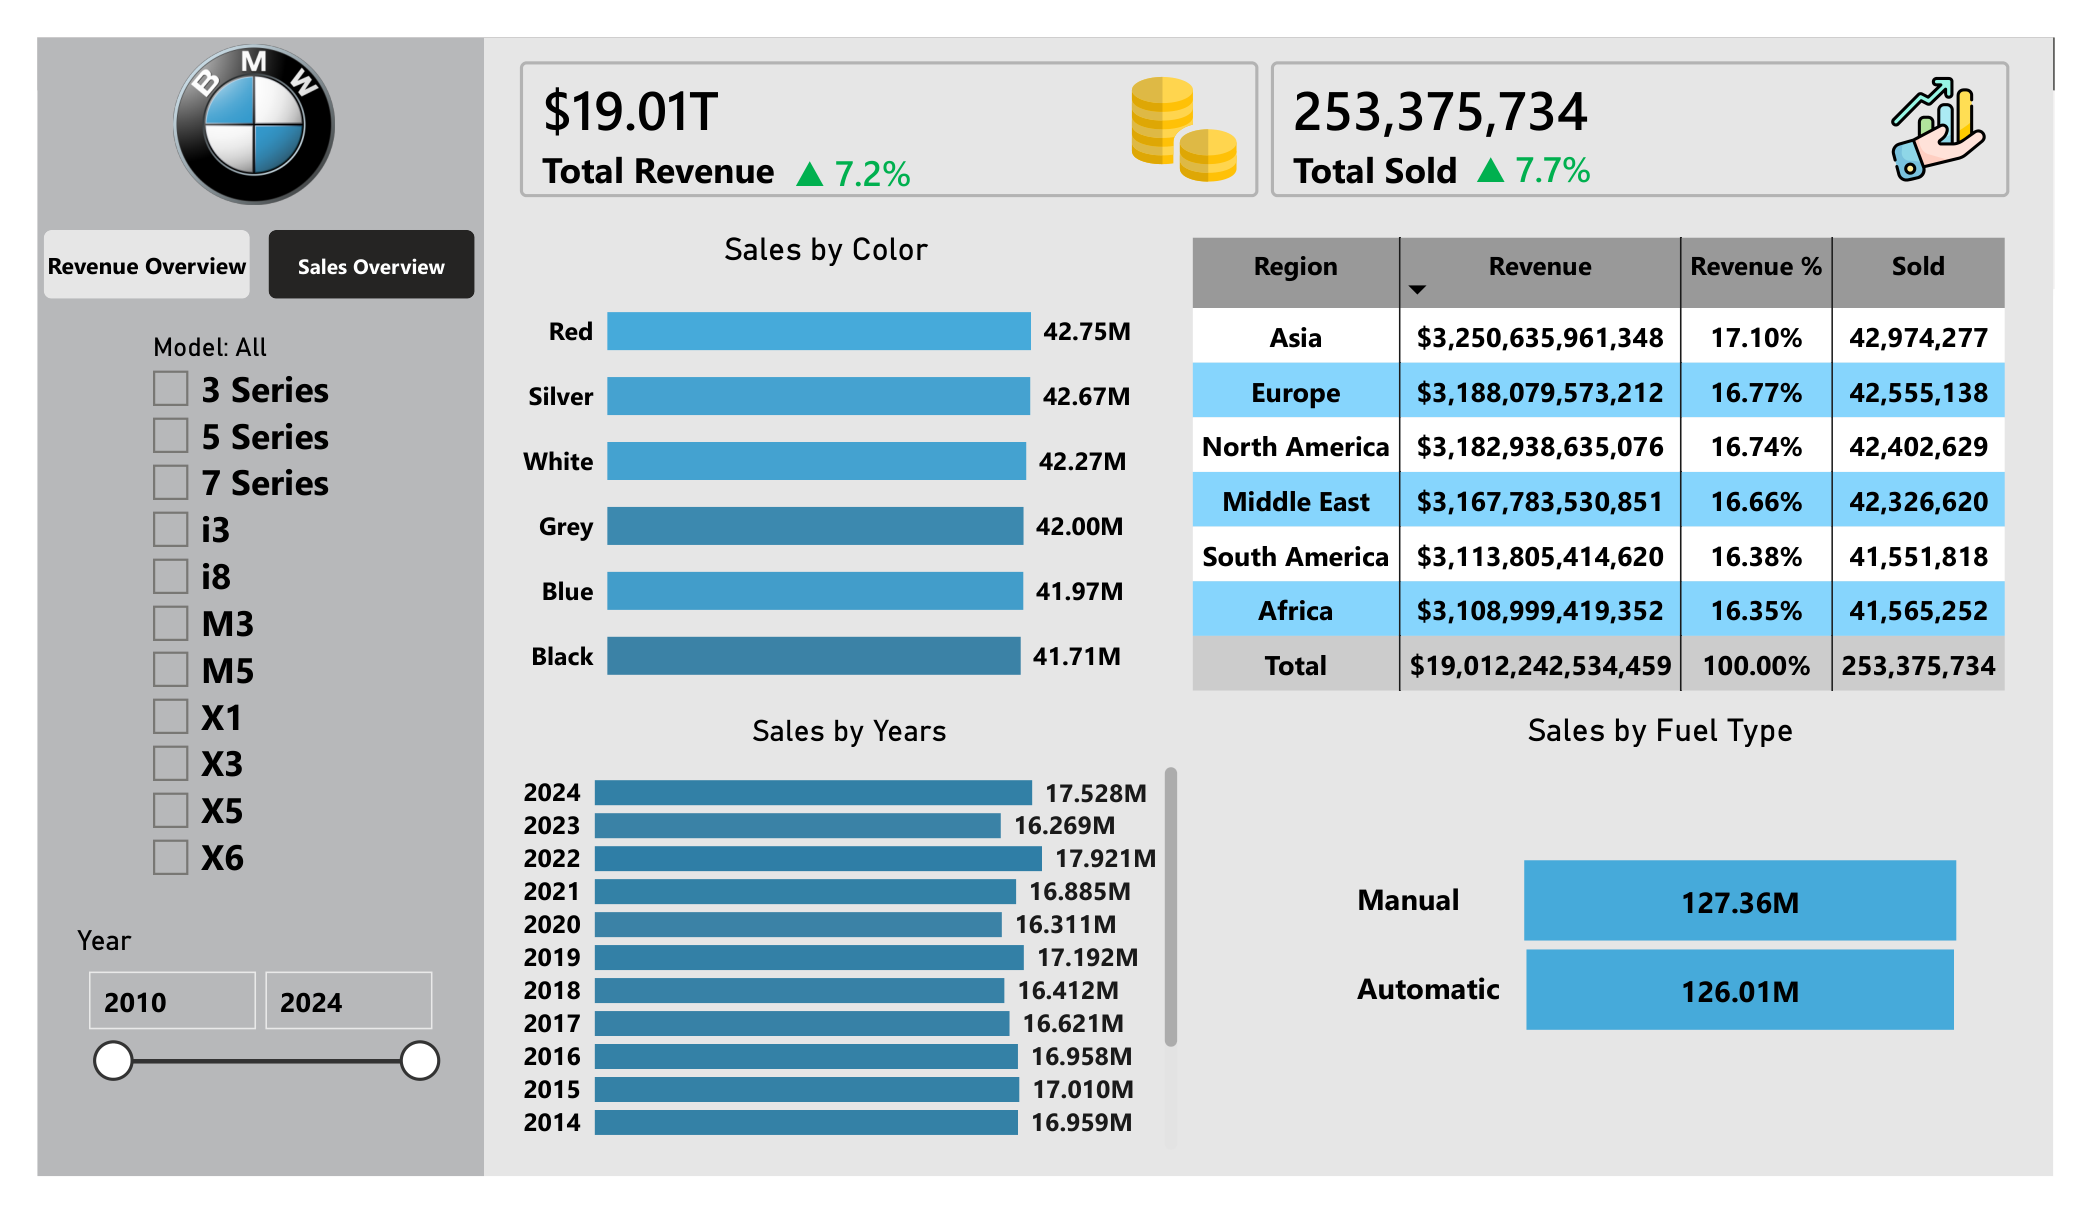

This screenshot's page, from the dashboard's own definition file:
{"tool":"powerbi","page":{"name":"Sales Overview","canvas":[1291,729],"ordinal":1},"visuals":[{"type":"shape","box":[0,0,285.7,728.6],"z":0},{"type":"funnel","title":"Sales by Fuel Type","fields":{"Y":["Sum(bmw_sales_data_2010_2024.Sales_Volume)"],"Category":["bmw_sales_data_2010_2024.Transmission"]},"box":[840.9,429.1,398.9,275.5],"z":1000},{"type":"tableEx","fields":{"Values":["bmw_sales_data_2010_2024.Region","bmw_sales_data_2010_2024.Total Revenue","Divide(bmw_sales_data_2010_2024.Total Revenue, ScopedEval(bmw_sales_data_2010_2024.Total Revenue, []))","Sum(bmw_sales_data_2010_2024.Sales_Volume)"]},"box":[734.3,122.9,534.3,308.6],"z":2000},{"type":"slicer","fields":{"Values":["bmw_sales_data_2010_2024.Model"]},"box":[61.4,182.9,171.4,361.4],"z":3000},{"type":"clusteredBarChart","title":"Sales by Color","fields":{"Category":["bmw_sales_data_2010_2024.Color"],"Y":["Sum(bmw_sales_data_2010_2024.Sales_Volume)"]},"box":[304.3,122.9,401.4,308.6],"z":4000},{"type":"image","box":[67.1,4.3,141.4,102.9],"z":5000},{"type":"barChart","title":"Sales by Years","fields":{"Category":["bmw_sales_data_2010_2024.Year"],"Y":["Sum(bmw_sales_data_2010_2024.Sales_Volume)"]},"box":[304.2,431.9,430.5,285.6],"z":6000},{"type":"slicer","title":"Year","fields":{"Values":["bmw_sales_data_2010_2024.Year"]},"box":[20,567.1,245.7,140],"z":7000},{"type":"cardVisual","fields":{"Data":["bmw_sales_data_2010_2024.Total Revenue","Sum(bmw_sales_data_2010_2024.Sales_Volume)"]},"box":[304.3,10,964.3,97.1],"z":8000},{"type":"cardVisual","fields":{"Data":["bmw_sales_data_2010_2024.Revenue Trend Text"]},"box":[456.3,56,219.6,57.4],"z":9000},{"type":"cardVisual","fields":{"Data":["bmw_sales_data_2010_2024.Sales Volume Trend Text"]},"box":[892.6,53.1,202.3,58.8],"z":10000},{"type":"image","box":[695.5,24.8,78.7,67.1],"z":11000},{"type":"image","box":[1178.1,24.8,78.7,67.1],"z":12000},{"type":"pageNavigator","box":[4.3,122.9,275.7,44.3],"z":13000}]}

Visuals, with their boxes on the page's 1291x729 design canvas (x1, y1, x2, y2). These are canvas units, not pixel positions in the 2092x1215 screenshot, which may show the page scaled, cropped or inside an application window:
shape: x1=0 y1=0 x2=286 y2=729
"Sales by Fuel Type" funnel: x1=841 y1=429 x2=1240 y2=705
tableEx - bmw_sales_data_2010_2024.Region x bmw_sales_data_2010_2024.Total Revenue: x1=734 y1=123 x2=1269 y2=432
slicer - bmw_sales_data_2010_2024.Model: x1=61 y1=183 x2=233 y2=544
"Sales by Color" clusteredBarChart: x1=304 y1=123 x2=706 y2=432
image: x1=67 y1=4 x2=208 y2=107
"Sales by Years" barChart: x1=304 y1=432 x2=735 y2=718
"Year" slicer: x1=20 y1=567 x2=266 y2=707
cardVisual - bmw_sales_data_2010_2024.Total Revenue x Sum(bmw_sales_data_2010_2024.Sales_Volume): x1=304 y1=10 x2=1269 y2=107
cardVisual - bmw_sales_data_2010_2024.Revenue Trend Text: x1=456 y1=56 x2=676 y2=113
cardVisual - bmw_sales_data_2010_2024.Sales Volume Trend Text: x1=893 y1=53 x2=1095 y2=112
image: x1=696 y1=25 x2=774 y2=92
image: x1=1178 y1=25 x2=1257 y2=92
pageNavigator: x1=4 y1=123 x2=280 y2=167
